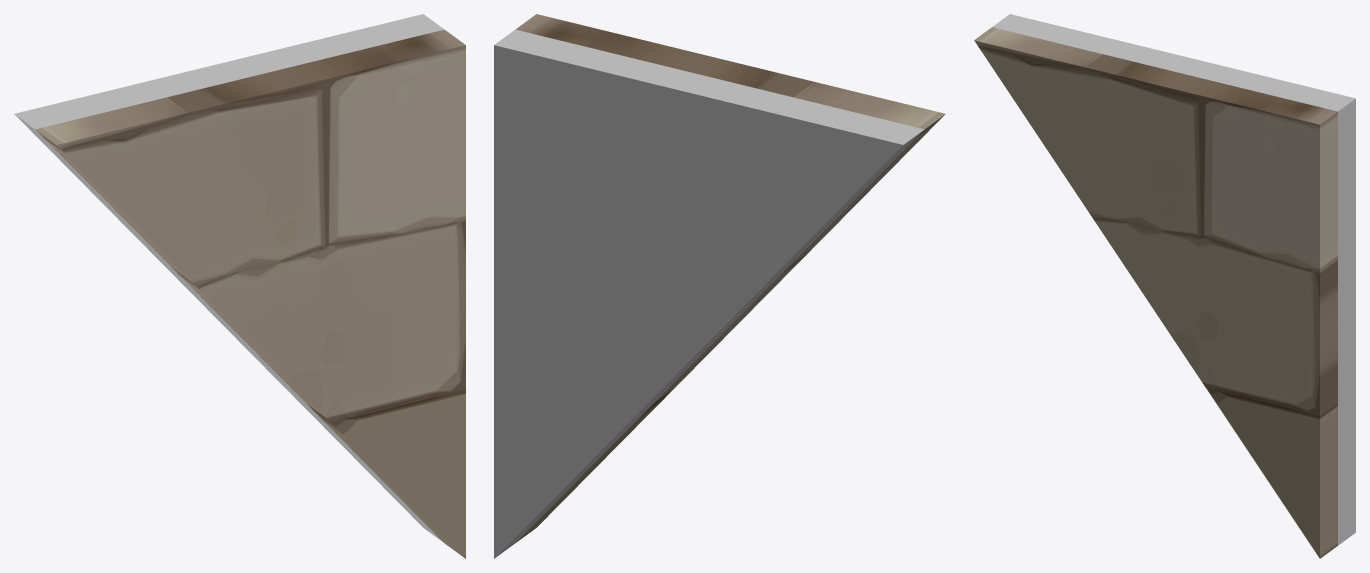
Rendered from SM_Bld_Wall_End_Straight_Small_Inverted_01.fbx.
3 renders of one model, left to right at view 1: azimuth 30°, elevation 25°; view 2: azimuth 150°, elevation 25°; view 3: azimuth 330°, elevation 25°, orthographic. The views are drawn at different scales.
Parts seen in each view (by area): view 1: SM_Bld_Wall_End_Straight_Small_Inverted_01; view 2: SM_Bld_Wall_End_Straight_Small_Inverted_01; view 3: SM_Bld_Wall_End_Straight_Small_Inverted_01.
Boxes of the visible parts, x1=… form: SM_Bld_Wall_End_Straight_Small_Inverted_01: x1=14, y1=14, x2=465, y2=558; SM_Bld_Wall_End_Straight_Small_Inverted_01: x1=494, y1=14, x2=945, y2=558; SM_Bld_Wall_End_Straight_Small_Inverted_01: x1=974, y1=14, x2=1355, y2=558.
Bounding box in the file's own units: 125 × 150 × 22.5.
